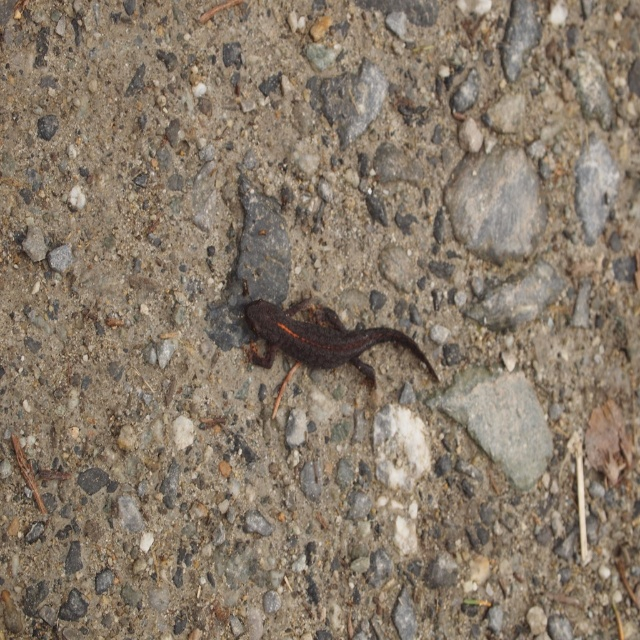Lizard: (239, 299, 429, 418)
